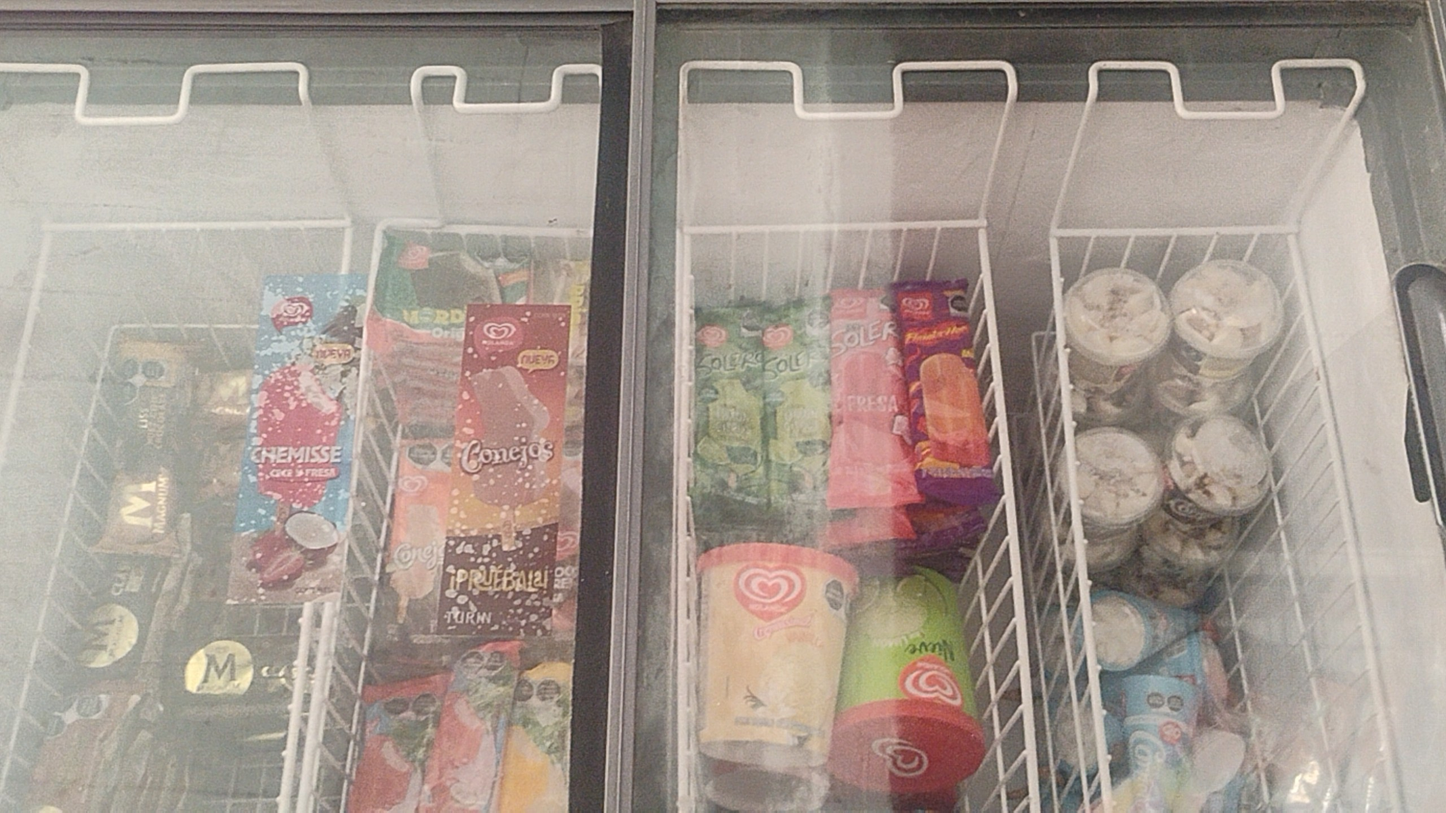rejilla: (1290, 237, 1401, 812), (1051, 239, 1112, 812), (1004, 460, 1039, 812), (0, 235, 50, 466), (298, 602, 332, 811), (980, 230, 1010, 459), (281, 604, 311, 811), (680, 236, 690, 812), (686, 221, 983, 232), (45, 222, 348, 229), (1052, 227, 1295, 234), (448, 226, 592, 234), (369, 232, 382, 300), (342, 230, 350, 274)
